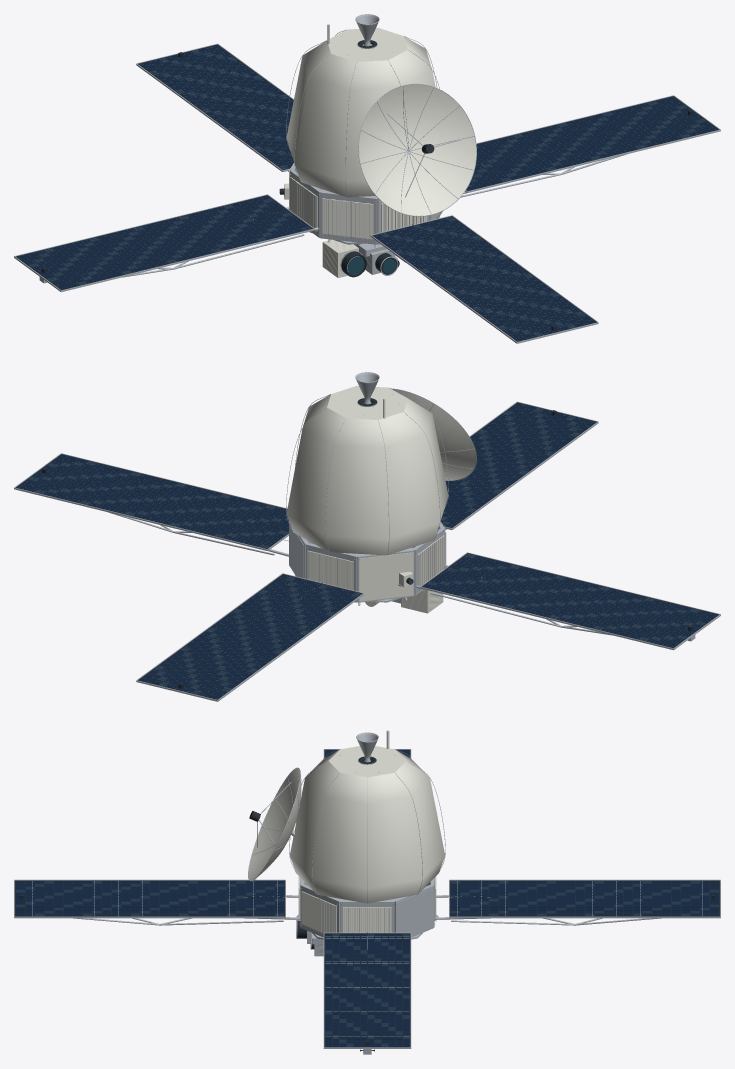
File: mariner-exterior.glb
3 views of the same model, one above another, from view 1: azimuth 30°, elevation 25°; view 2: azimuth 150°, elevation 25°; view 3: azimuth 270°, elevation 25° (orthographic). The views are drawn at different scales.
Visible parts, largest first — view 1: PROPULSION_BLANKET_White_sewn_thermal_blanket, HIGH_GAIN_White_thermal_coating, ARRAY_2_CELLS_Solar_semiconductor, ARRAY_1_CELLS_Solar_semiconductor, ARRAY_0_CELLS_Solar_semiconductor, ARRAY_3_CELLS_Solar_semiconductor, ARRAY_1_Anodized_aluminium, ARRAY_2_Anodized_aluminium, ARRAY_2_CELLS_Solar_semiconductor_alternate, ARRAY_1_CELLS_Solar_semiconductor_alternate, ARRAY_0_Anodized_aluminium, ARRAY_3_Anodized_aluminium (+15 smaller); view 2: PROPULSION_BLANKET_White_sewn_thermal_blanket, ARRAY_2_CELLS_Solar_semiconductor, ARRAY_3_CELLS_Solar_semiconductor, ARRAY_0_CELLS_Solar_semiconductor, ARRAY_1_CELLS_Solar_semiconductor, ARRAY_3_Anodized_aluminium, ARRAY_2_Anodized_aluminium, ARRAY_0_Anodized_aluminium, ARRAY_2_CELLS_Solar_semiconductor_alternate, ARRAY_3_CELLS_Solar_semiconductor_alternate, ARRAY_0_CELLS_Solar_semiconductor_alternate, HIGH_GAIN_White_thermal_coating (+15 smaller); view 3: PROPULSION_BLANKET_White_sewn_thermal_blanket, ARRAY_3_CELLS_Solar_semiconductor, ARRAY_1_CELLS_Solar_semiconductor, ARRAY_0_CELLS_Solar_semiconductor, HIGH_GAIN_White_thermal_coating, ARRAY_3_Anodized_aluminium, ARRAY_1_Anodized_aluminium, ARRAY_0_Anodized_aluminium, ARRAY_3_CELLS_Solar_semiconductor_alternate, ARRAY_1_CELLS_Solar_semiconductor_alternate, ARRAY_0_CELLS_Solar_semiconductor_alternate, UPPER_BLANKET_CLOSURE_White_thermal_coating (+10 smaller).
Boxes of the visible parts, x1,y1,x2,y2 form: PROPULSION_BLANKET_White_sewn_thermal_blanket: [286, 36, 435, 197]; HIGH_GAIN_White_thermal_coating: [359, 84, 476, 215]; ARRAY_2_CELLS_Solar_semiconductor: [17, 195, 307, 289]; ARRAY_1_CELLS_Solar_semiconductor: [373, 218, 595, 341]; ARRAY_0_CELLS_Solar_semiconductor: [466, 96, 717, 190]; ARRAY_3_CELLS_Solar_semiconductor: [139, 45, 293, 168]; ARRAY_1_Anodized_aluminium: [372, 216, 596, 341]; ARRAY_2_Anodized_aluminium: [15, 195, 313, 290]; ARRAY_2_CELLS_Solar_semiconductor_alternate: [28, 198, 311, 285]; ARRAY_1_CELLS_Solar_semiconductor_alternate: [380, 216, 585, 336]; ARRAY_0_Anodized_aluminium: [466, 96, 719, 191]; ARRAY_3_Anodized_aluminium: [138, 44, 293, 170]; PROPULSION_BLANKET_White_sewn_thermal_blanket: [286, 394, 448, 555]; ARRAY_2_CELLS_Solar_semiconductor: [423, 556, 717, 647]; ARRAY_3_CELLS_Solar_semiconductor: [139, 574, 356, 699]; ARRAY_0_CELLS_Solar_semiconductor: [17, 454, 289, 546]; ARRAY_1_CELLS_Solar_semiconductor: [440, 403, 595, 527]; ARRAY_3_Anodized_aluminium: [138, 574, 362, 699]; ARRAY_2_Anodized_aluminium: [421, 553, 719, 648]; ARRAY_0_Anodized_aluminium: [15, 454, 288, 549]; ARRAY_2_CELLS_Solar_semiconductor_alternate: [427, 553, 706, 641]; ARRAY_3_CELLS_Solar_semiconductor_alternate: [154, 576, 361, 694]; ARRAY_0_CELLS_Solar_semiconductor_alternate: [28, 461, 288, 548]; HIGH_GAIN_White_thermal_coating: [363, 389, 476, 480]; PROPULSION_BLANKET_White_sewn_thermal_blanket: [289, 750, 445, 903]; ARRAY_3_CELLS_Solar_semiconductor: [451, 881, 718, 916]; ARRAY_1_CELLS_Solar_semiconductor: [16, 881, 283, 916]; ARRAY_0_CELLS_Solar_semiconductor: [325, 934, 409, 1047]; HIGH_GAIN_White_thermal_coating: [248, 768, 301, 880]; ARRAY_3_Anodized_aluminium: [449, 880, 720, 916]; ARRAY_1_Anodized_aluminium: [14, 880, 285, 916]; ARRAY_0_Anodized_aluminium: [324, 933, 410, 1047]; ARRAY_3_CELLS_Solar_semiconductor_alternate: [451, 881, 718, 916]; ARRAY_1_CELLS_Solar_semiconductor_alternate: [16, 881, 283, 916]; ARRAY_0_CELLS_Solar_semiconductor_alternate: [325, 934, 409, 1047]; UPPER_BLANKET_CLOSURE_White_thermal_coating: [329, 746, 405, 777].
Bounding box in the file's own units: 6.91 × 2.38 × 6.91.
